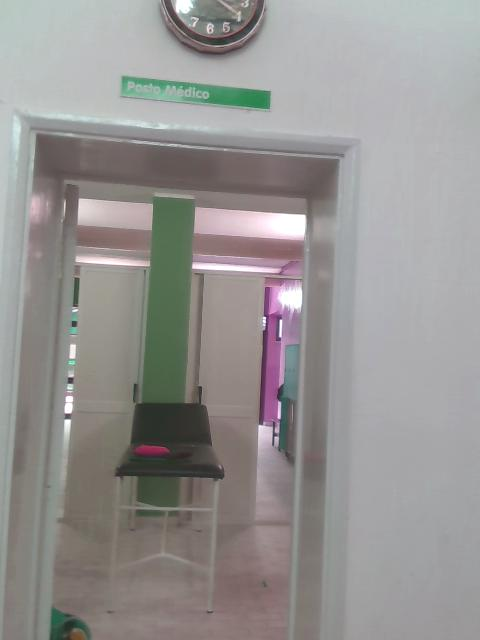open_door: (1, 104, 360, 639)
